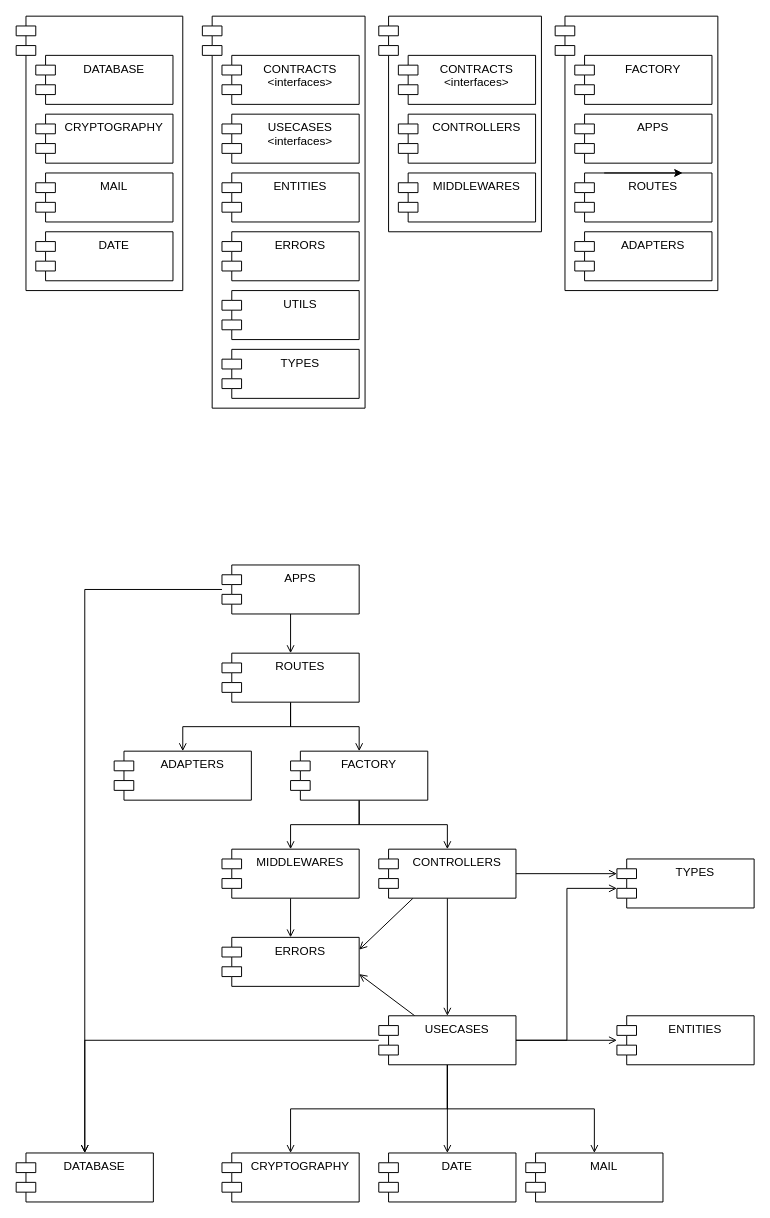
Some shapes in this 770 by 1218 pixel diagram are drawn without their labels. Each missing label, with the box of its shape:
APPLICATION: (378, 15, 541, 232)
DOMAIN: (201, 15, 365, 408)
INFRASTRUCTURE: (15, 15, 183, 291)
MAIN: (554, 15, 718, 291)
